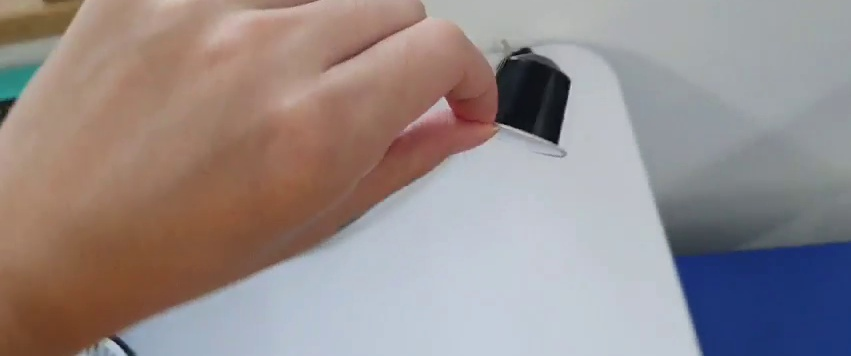capsule_10: (470, 46, 576, 161)
